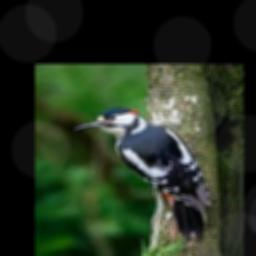Woodpecker: (74, 107, 212, 244)
